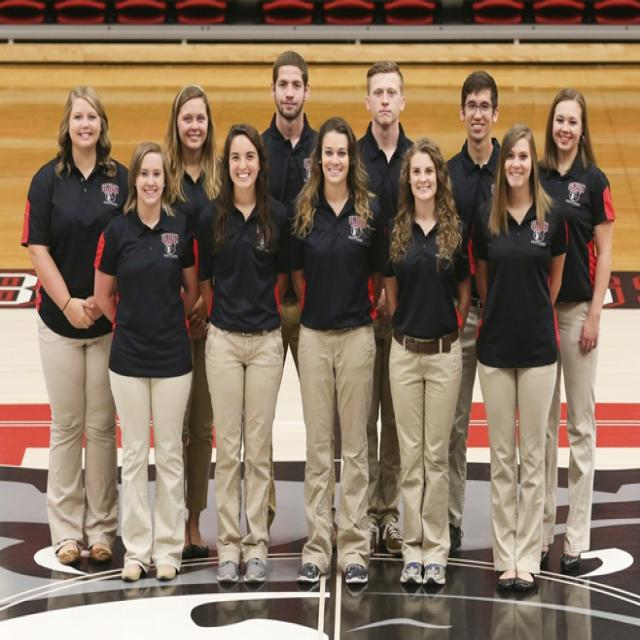body: (235, 48, 338, 578), (19, 85, 130, 567), (464, 121, 572, 600), (282, 112, 390, 588), (90, 141, 200, 584), (193, 120, 294, 588), (379, 131, 478, 592), (529, 84, 620, 579), (156, 81, 228, 571), (441, 68, 503, 556), (356, 56, 416, 558)
